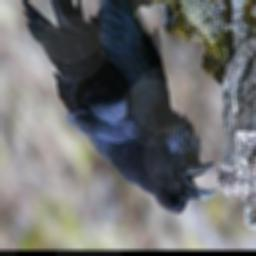Crow: (21, 0, 217, 216)
